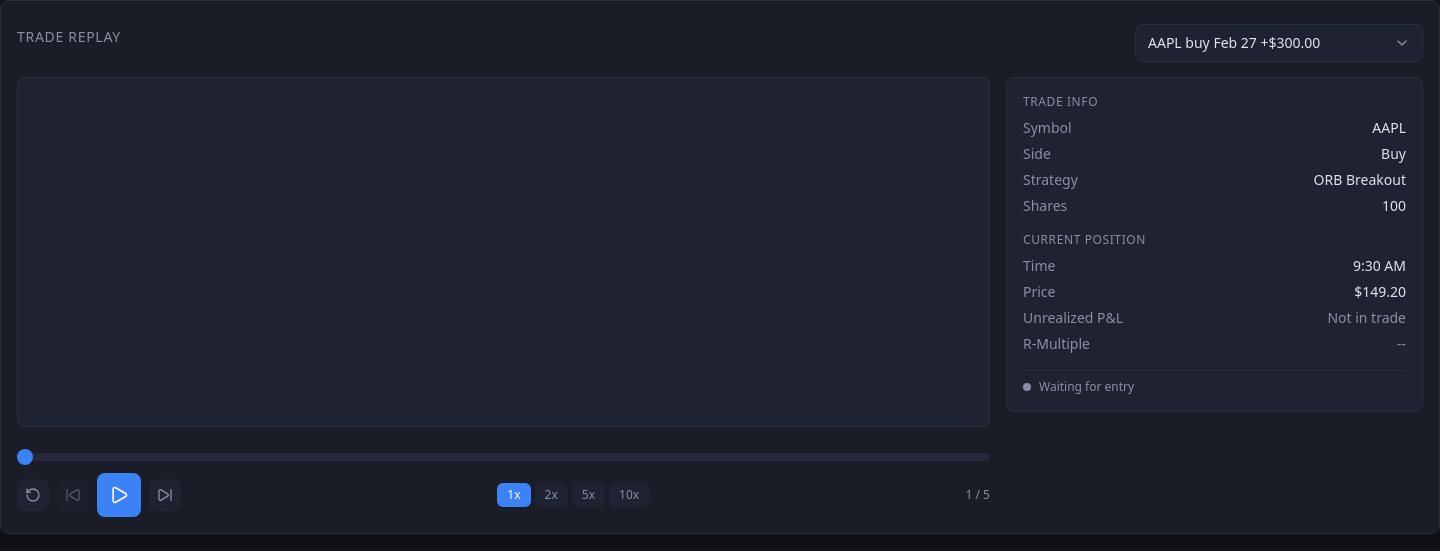
Scenario: TradeReplay › toggles play/pause state
Click play
Click the button titled "Play" at (119, 495), box [97, 473, 141, 517]
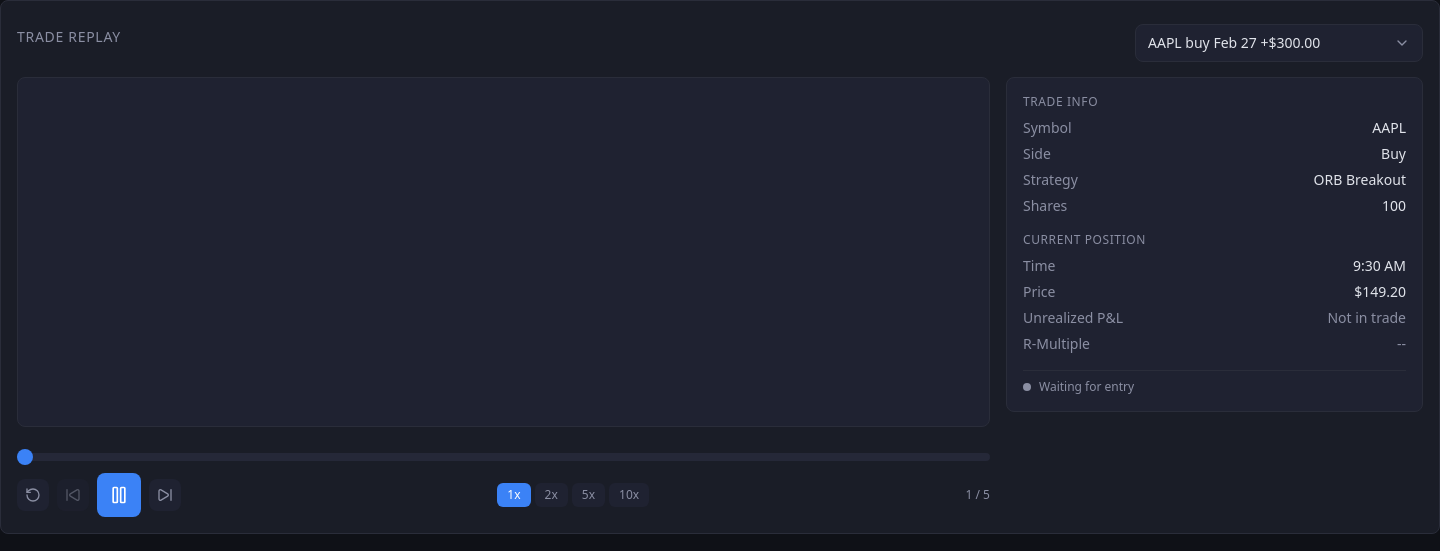
Result: the button titled "Pause" is shown
Click pause
Click the button titled "Pause" at (119, 495), box [97, 473, 141, 517]
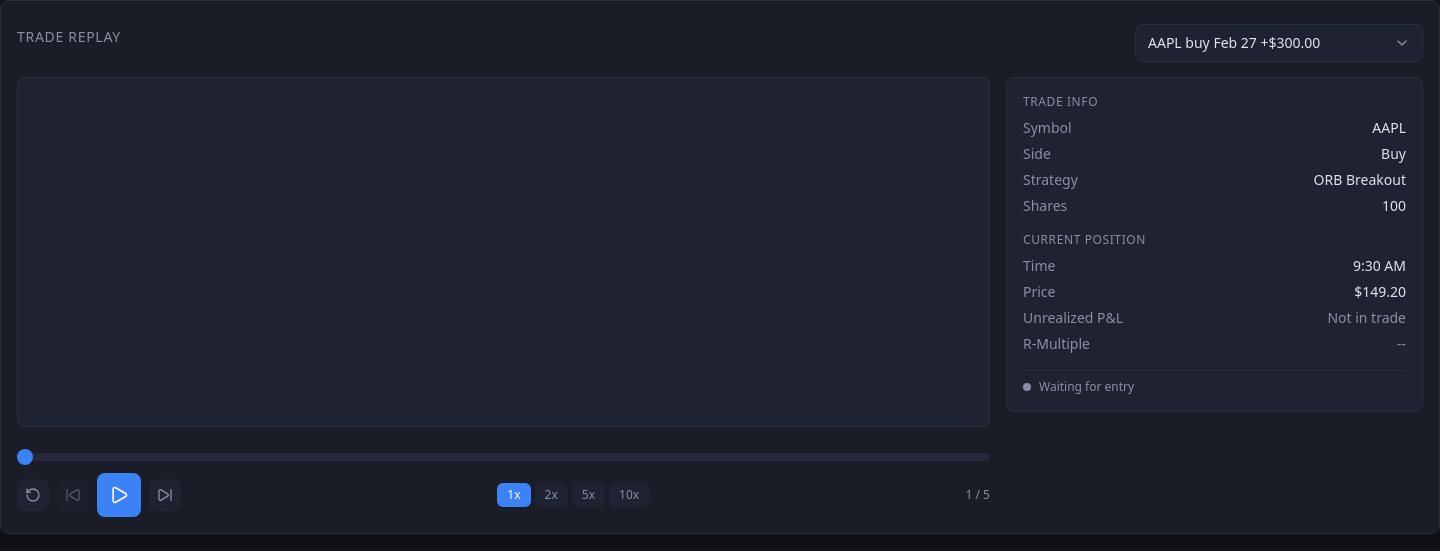
Result: the button titled "Play" is shown at [97, 473, 141, 517]
